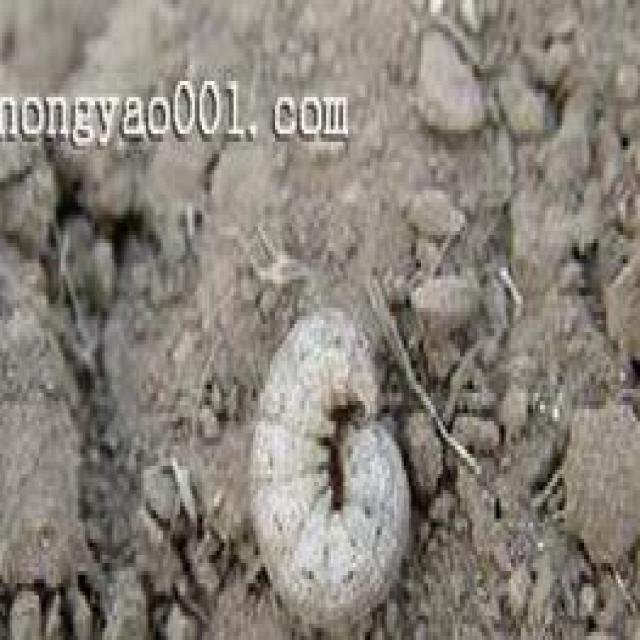armyworm: (240, 314, 425, 621)
